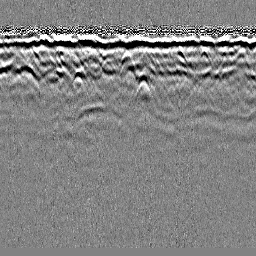cavity: (118, 51, 135, 67)
